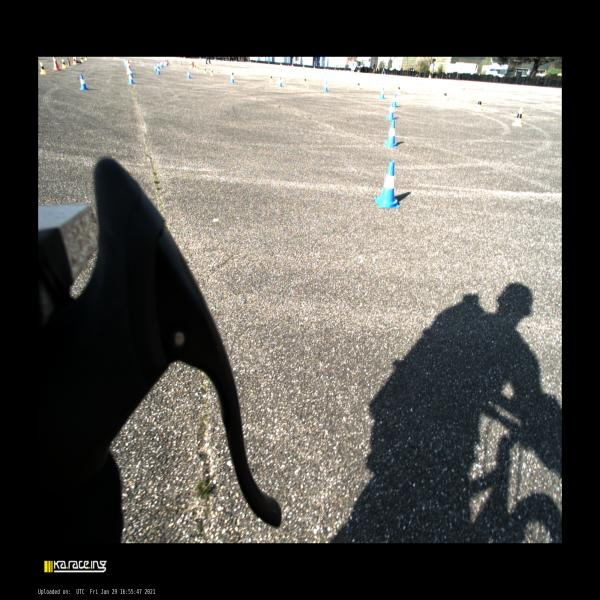blue_cone: (375, 161, 400, 208), (384, 120, 397, 148), (386, 103, 395, 120), (80, 74, 87, 90), (379, 87, 384, 100), (393, 94, 397, 110), (129, 73, 134, 84), (323, 80, 327, 92), (230, 73, 235, 82), (278, 76, 282, 86), (187, 69, 191, 79), (130, 68, 134, 78), (156, 67, 160, 74), (154, 64, 157, 71), (157, 62, 160, 69), (124, 57, 126, 66), (161, 61, 164, 66), (160, 61, 162, 68), (165, 60, 167, 66)
large_orange_cone: (53, 57, 60, 71), (126, 59, 130, 74)
orange_cone: (180, 60, 182, 66), (192, 62, 194, 67)
yellow_cone: (513, 107, 522, 127), (39, 61, 47, 74), (476, 97, 482, 112), (442, 90, 447, 103), (61, 59, 67, 68), (396, 84, 401, 94), (356, 80, 360, 90), (303, 76, 307, 84), (269, 74, 273, 82), (210, 68, 214, 76), (196, 65, 200, 72), (73, 57, 77, 64), (80, 57, 84, 62), (232, 72, 235, 78), (189, 62, 192, 68), (204, 66, 206, 74), (194, 64, 196, 70), (84, 57, 88, 60)
